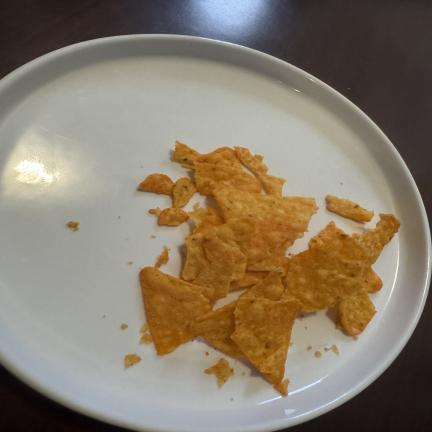chips: (124, 132, 404, 402)
